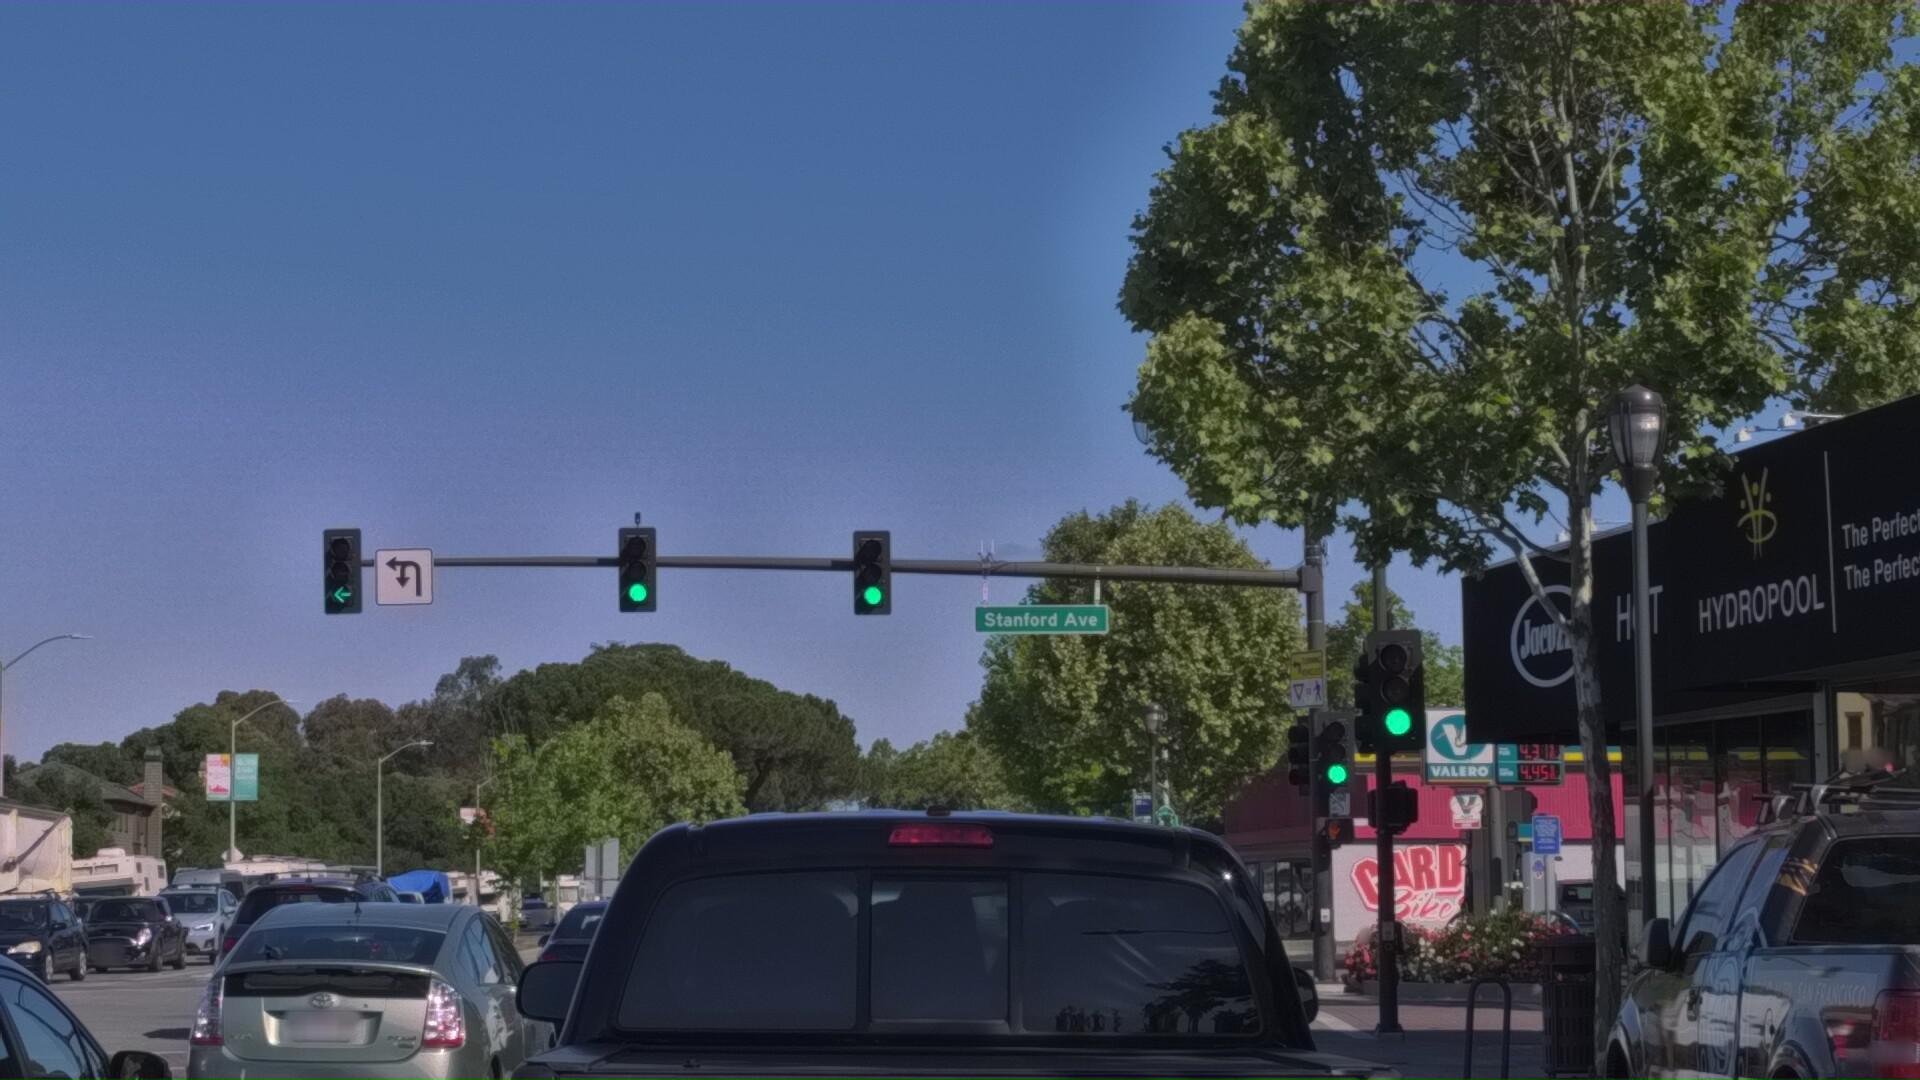car: (375, 777, 1493, 1080), (1534, 733, 1920, 1080), (149, 965, 582, 1080), (0, 916, 287, 1080), (804, 975, 1176, 1080), (764, 922, 1007, 1080), (191, 957, 436, 1080), (505, 994, 723, 1080), (0, 955, 117, 1077), (69, 971, 204, 1062), (135, 957, 266, 1051), (0, 971, 34, 1080)
truck: (0, 840, 100, 1080)
